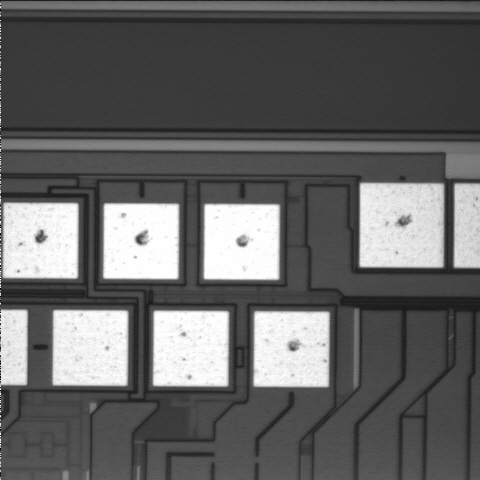pad: (360, 183, 444, 267), (103, 203, 179, 279), (204, 204, 280, 280), (3, 203, 78, 279), (53, 310, 128, 386), (153, 311, 229, 386), (254, 311, 329, 387)
